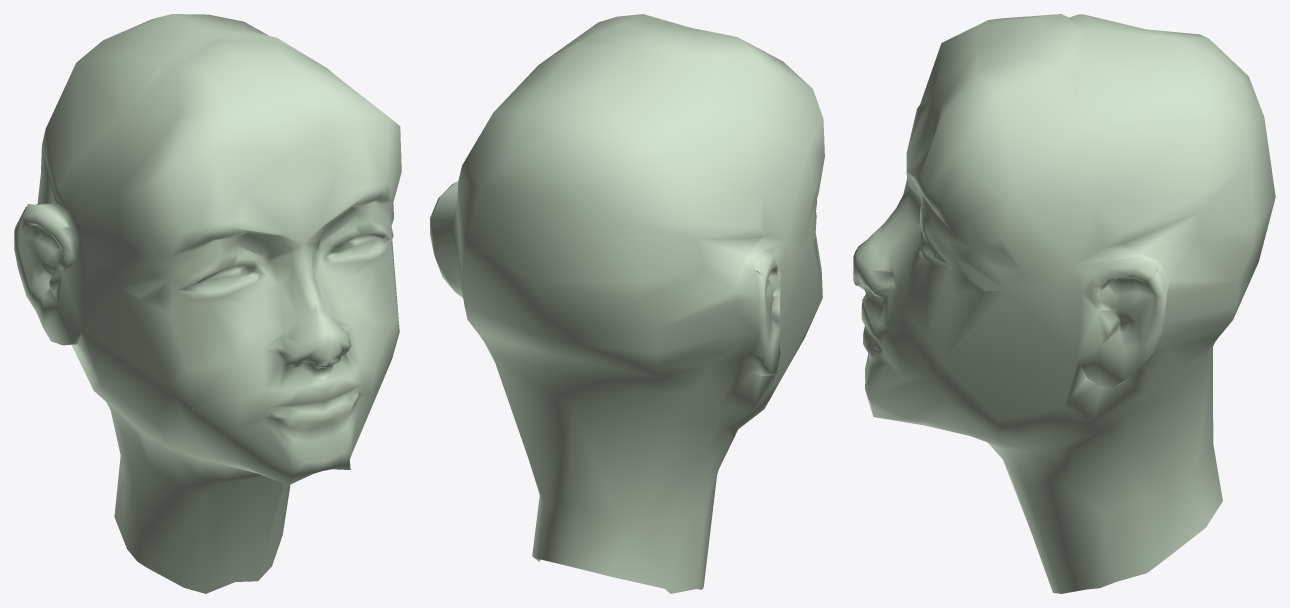
Rendered from head_liu_bang.dae.
The picture shows the model from 3 angles, left to right: view 1: azimuth 30°, elevation 25°; view 2: azimuth 150°, elevation 25°; view 3: azimuth 270°, elevation 25°; orthographic projection. The views are drawn at different scales.
Visible parts, largest first — view 1: head_chinese; view 2: head_chinese; view 3: head_chinese.
Boxes of the visible parts, box(x1,y1,x2,y2) form: head_chinese: box(14, 14, 401, 593); head_chinese: box(430, 14, 824, 593); head_chinese: box(853, 14, 1275, 593).
Size of the model in its own units: 0.5299 by 0.5766 by 0.8282.
